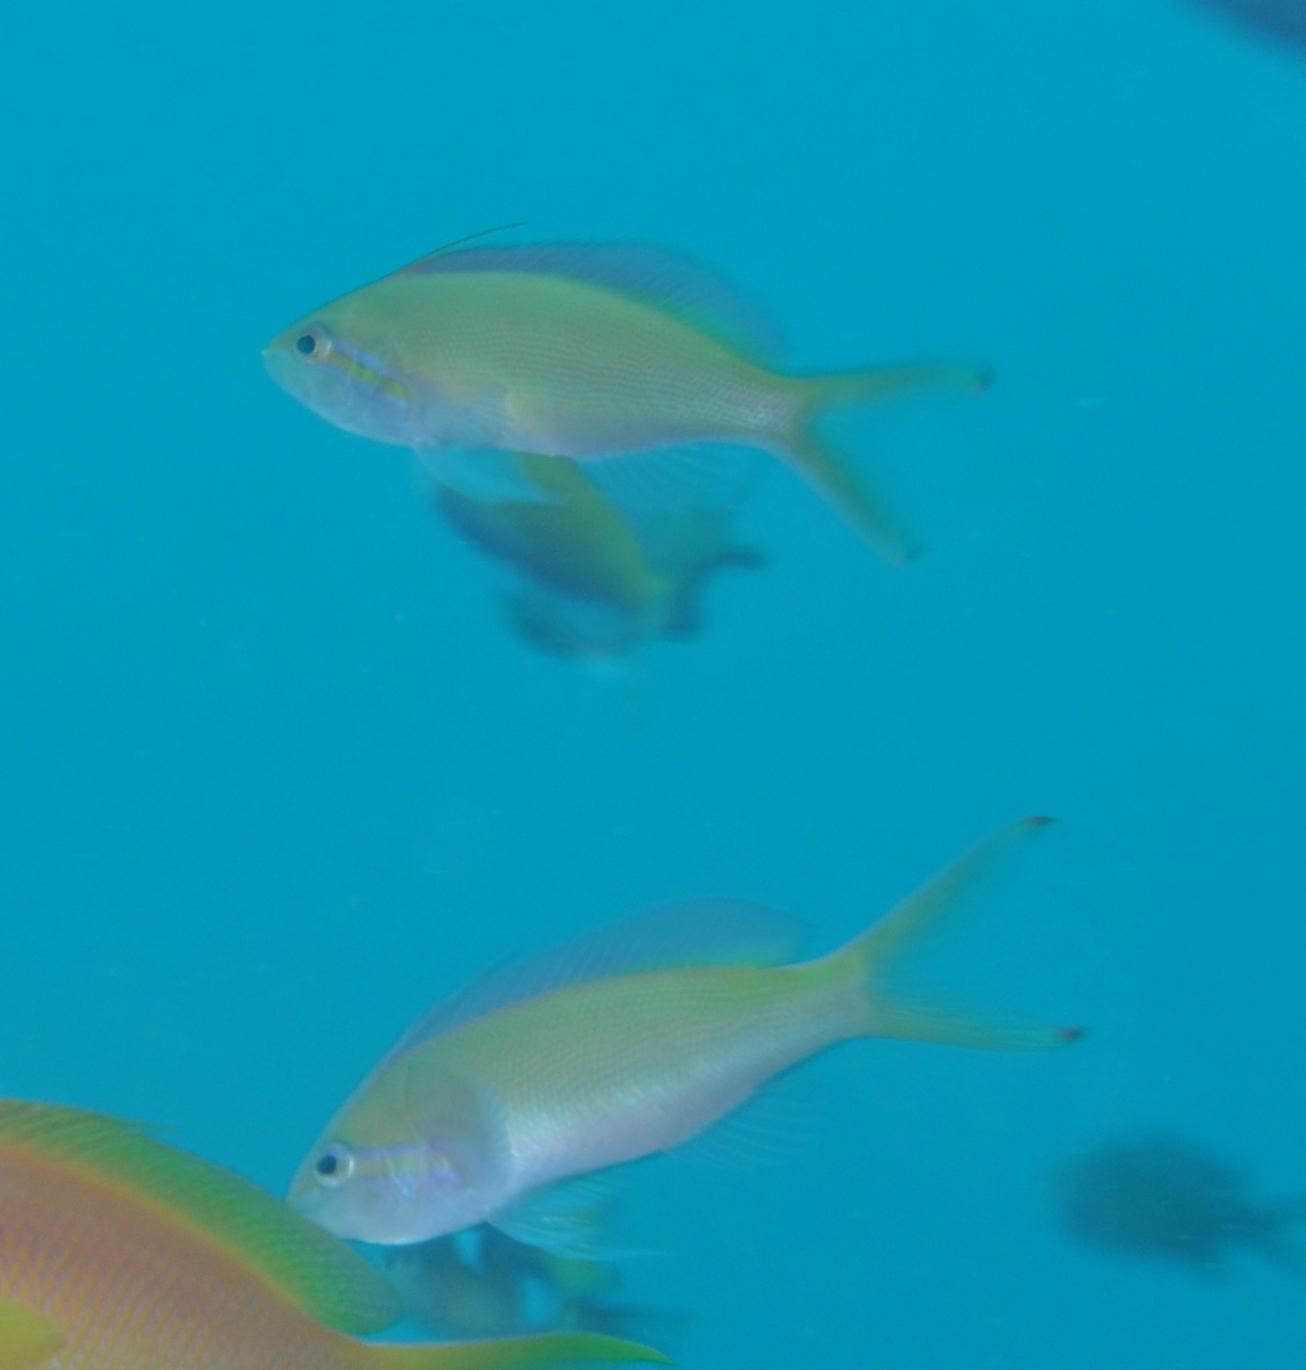Fish: (202, 776, 1168, 1350), (194, 190, 1064, 610)
